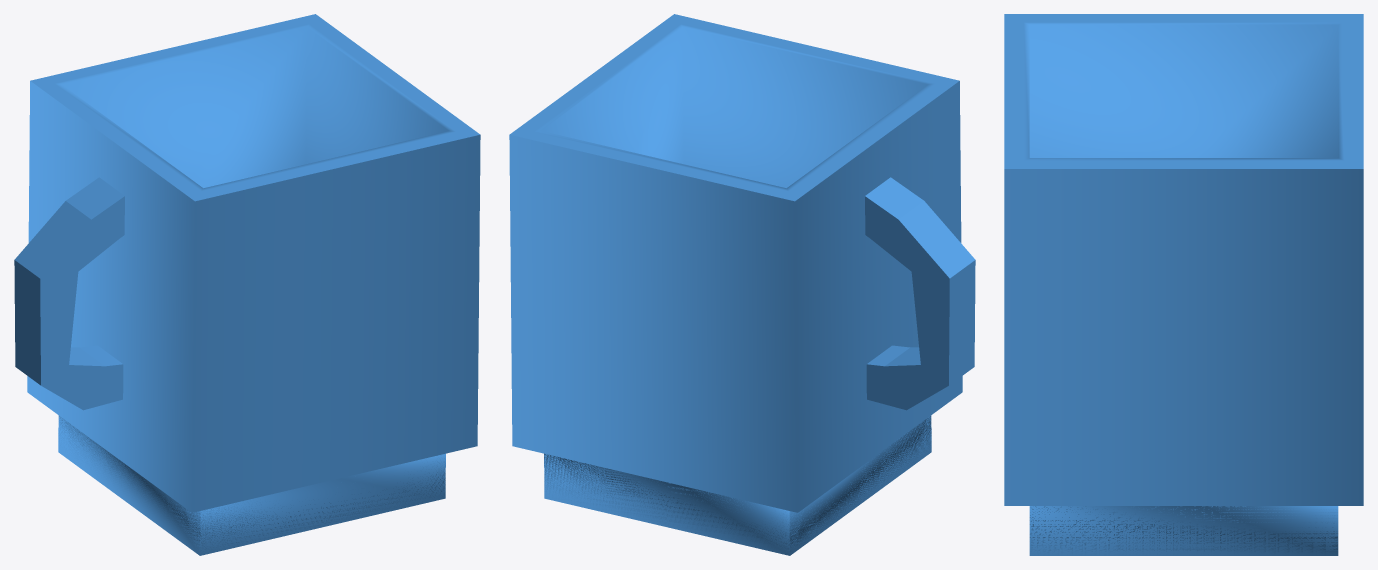
The model's file is Cup.gltf.
The picture shows the model from 3 angles, left to right: view 1: azimuth 30°, elevation 25°; view 2: azimuth 150°, elevation 25°; view 3: azimuth 270°, elevation 25°; orthographic projection. The views are drawn at different scales.
Visible parts, largest first — view 1: Cube; view 2: Cube; view 3: Cube.
Part boxes in pixels (x1,y1,x2,y2): Cube: (14, 14, 480, 555); Cube: (509, 14, 975, 555); Cube: (1004, 14, 1363, 555).
Bounding box in the file's own units: 5.59 × 5.32 × 4.3.
